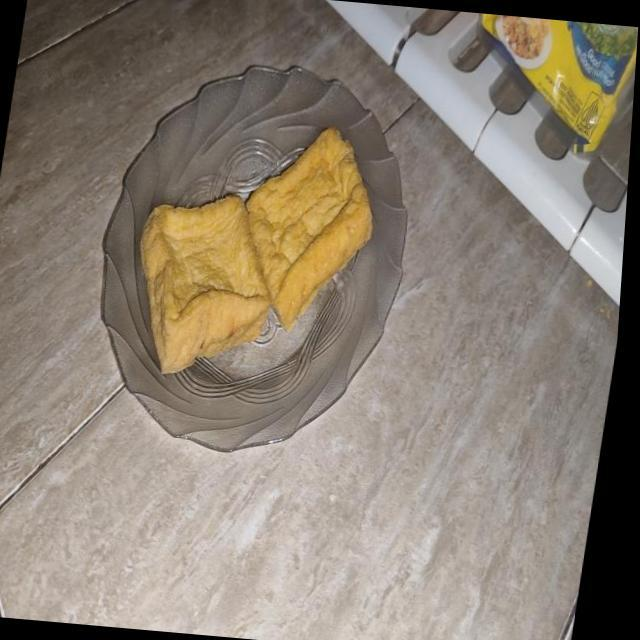tahu_goreng: (246, 127, 372, 330), (140, 195, 271, 374)
